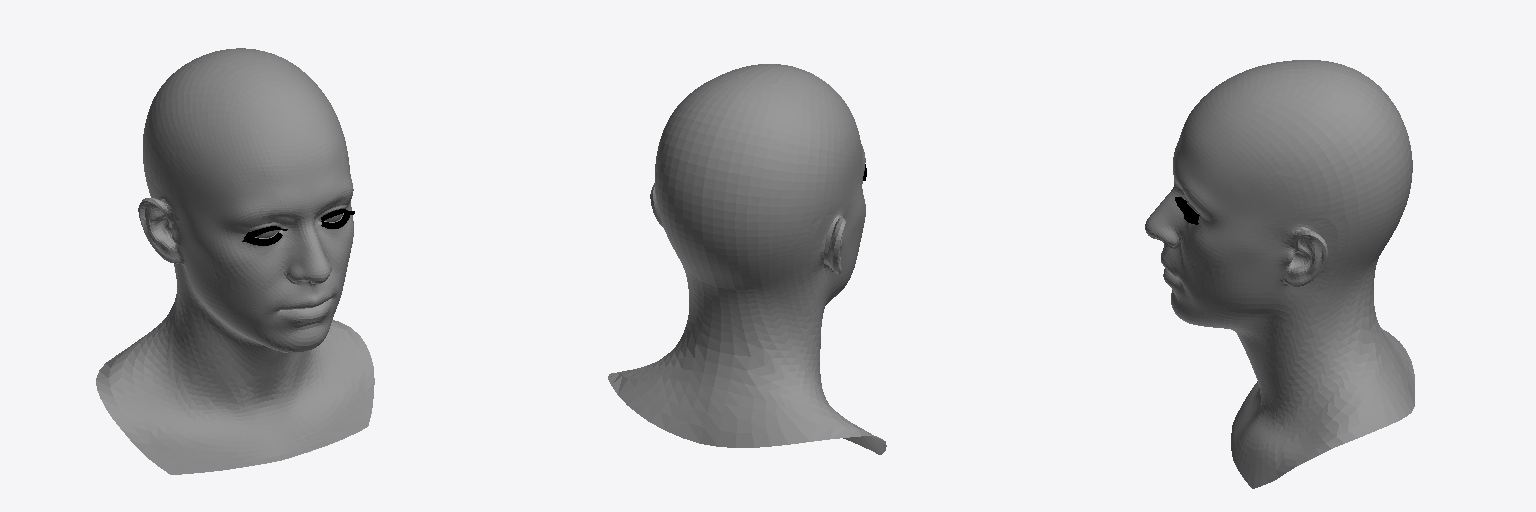
Rendered from identity006.obj.
The picture shows the model from 3 angles: view 1: azimuth 30°, elevation 25°; view 2: azimuth 150°, elevation 25°; view 3: azimuth 270°, elevation 25°; orthographic projection.
Size of the model in its own units: 24.64 by 33.81 by 22.12.